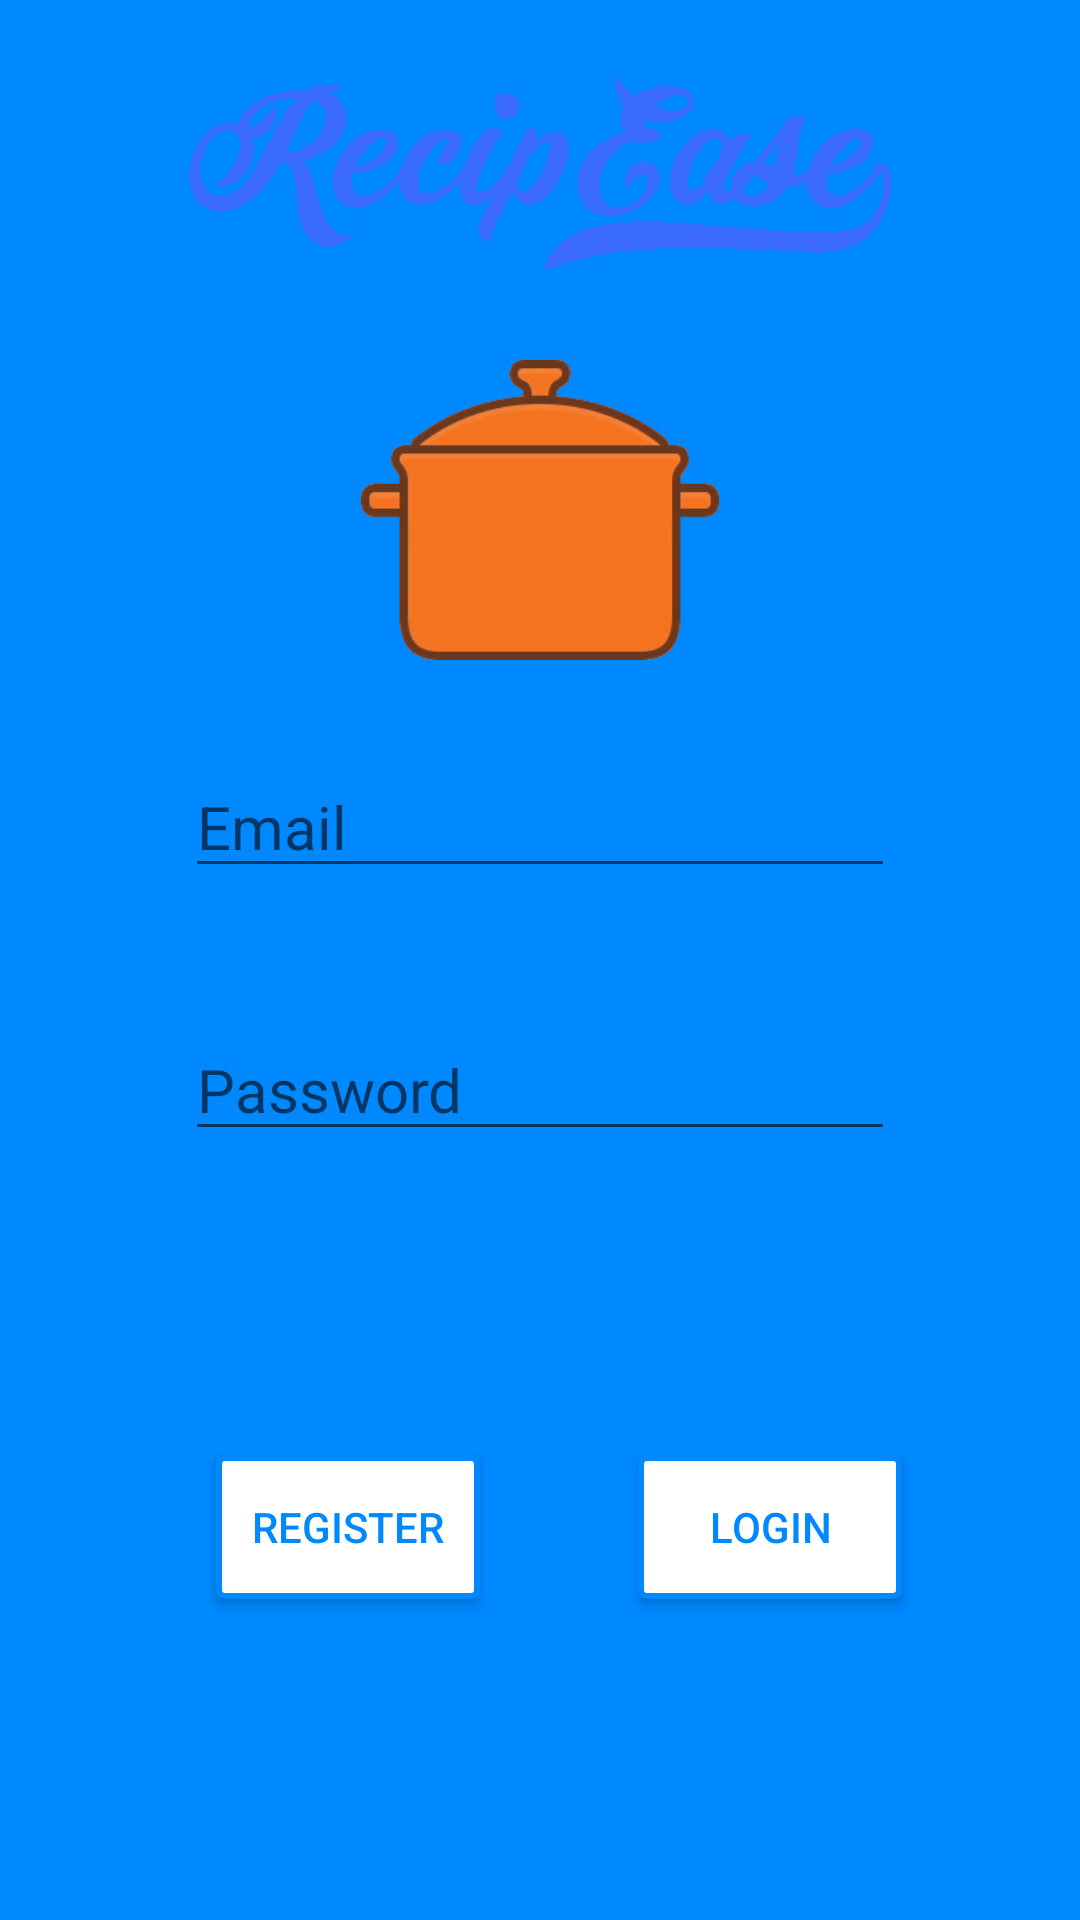

Icon click points for this 1080*1920 phone screenshot, format point (x, y):
pot: point (540, 510)
